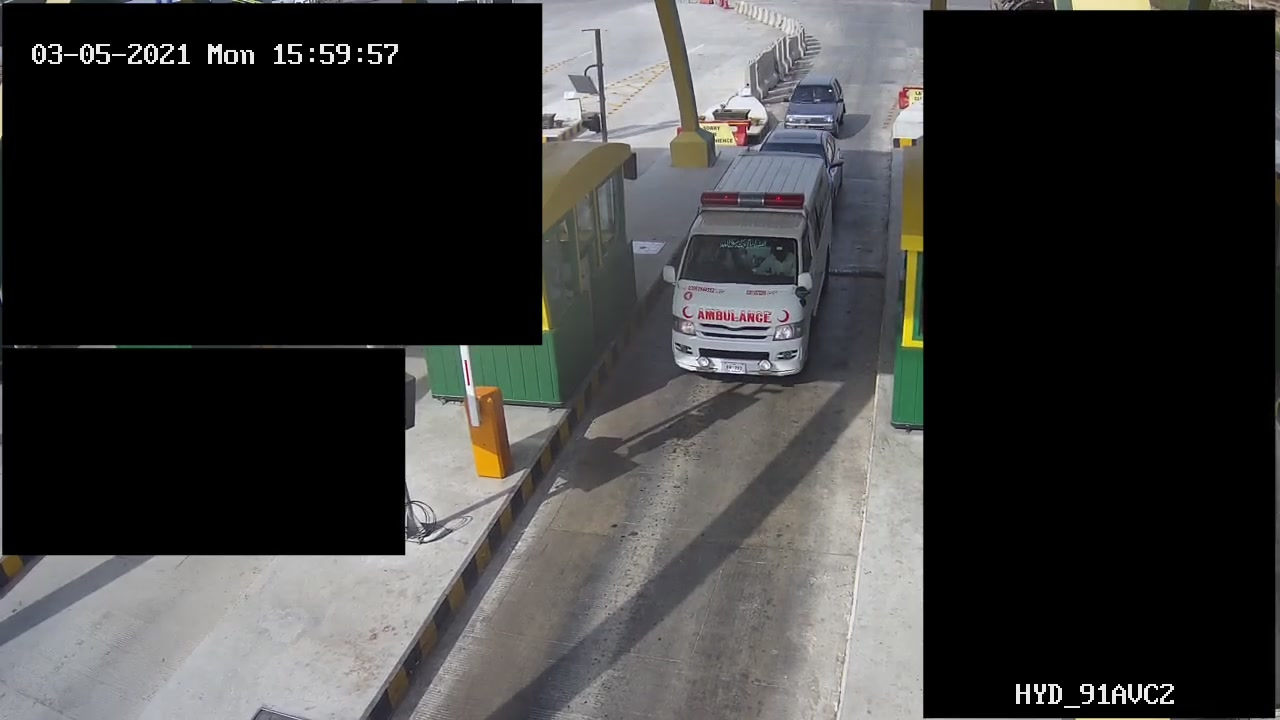F2: (663, 149, 849, 382)
